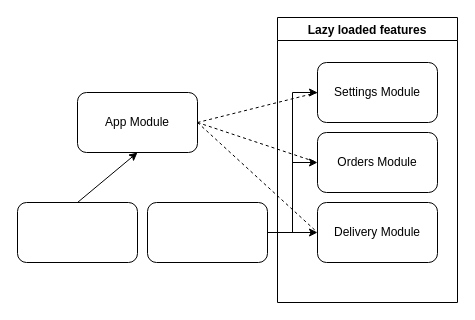
Some shapes in this 475 by 320 pixel diagram are drawn without their labels. The box of each missing label's shape, as (x1, y1, x2, y2) in pixels:
Core Module: (16, 202, 138, 262)
Shared Module: (146, 202, 268, 262)
